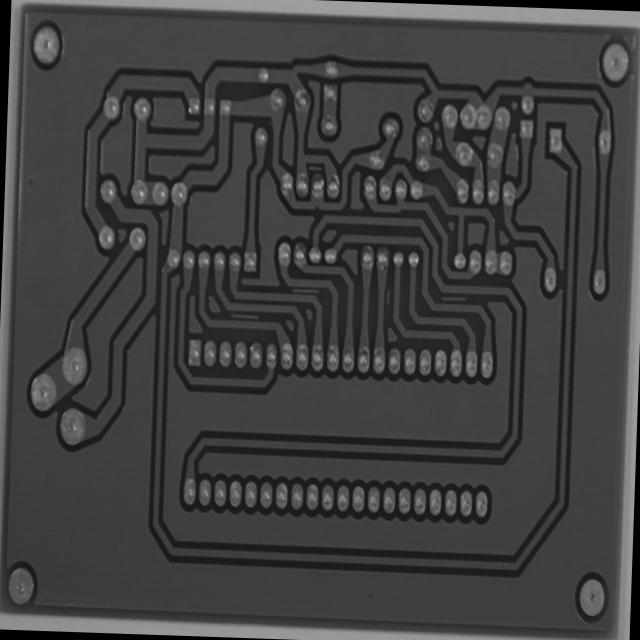spurious_copper: (288, 282, 323, 300), (226, 308, 262, 324), (438, 291, 469, 308), (304, 157, 325, 175), (383, 286, 392, 308)
